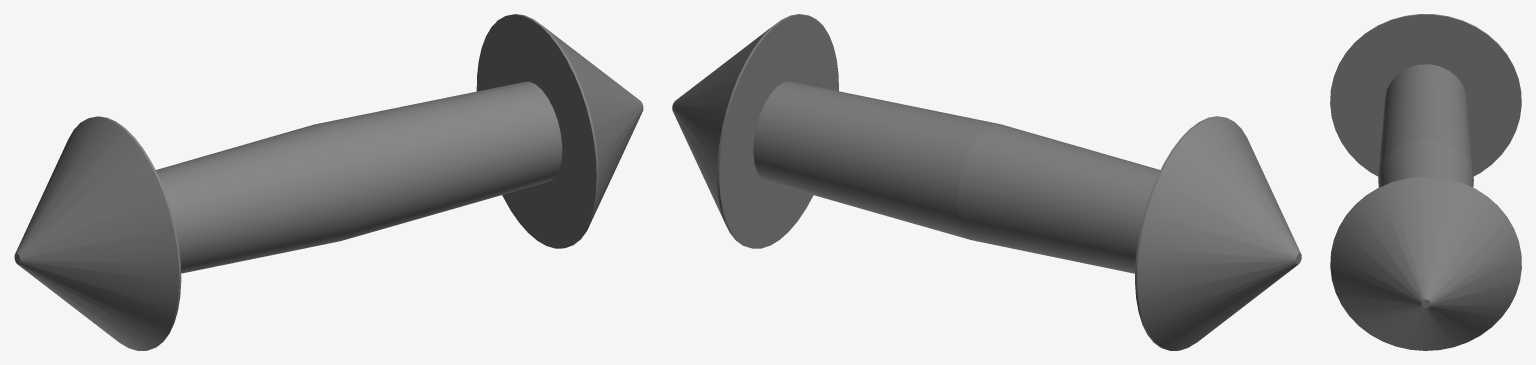
File: arrowH.glb
The picture shows the model from 3 angles, left to right: view 1: azimuth 30°, elevation 25°; view 2: azimuth 150°, elevation 25°; view 3: azimuth 270°, elevation 25°; orthographic projection. The views are drawn at different scales.
Parts seen in each view (by area): view 1: node_id5; view 2: node_id5; view 3: node_id5.
Part boxes in pixels (left/top/right/bottom): node_id5: left=14, top=14, right=643, bottom=350; node_id5: left=672, top=14, right=1301, bottom=350; node_id5: left=1330, top=14, right=1521, bottom=350.
Bounding box in the file's own units: 0.512 × 0.1708 × 0.1707.
1 material, 1 textured.
